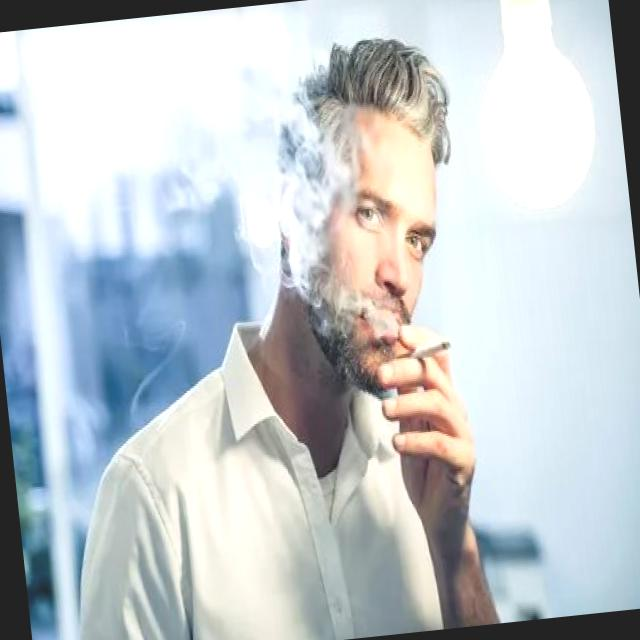smoke: (402, 332, 455, 373)
